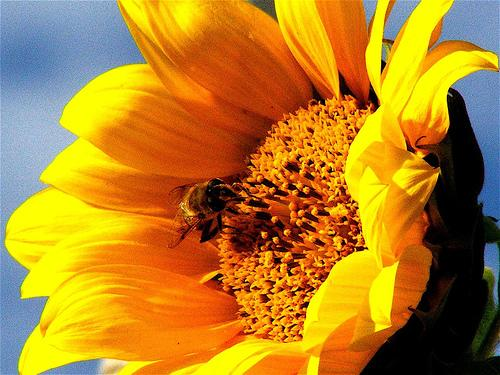sunflower: (5, 0, 500, 375)
